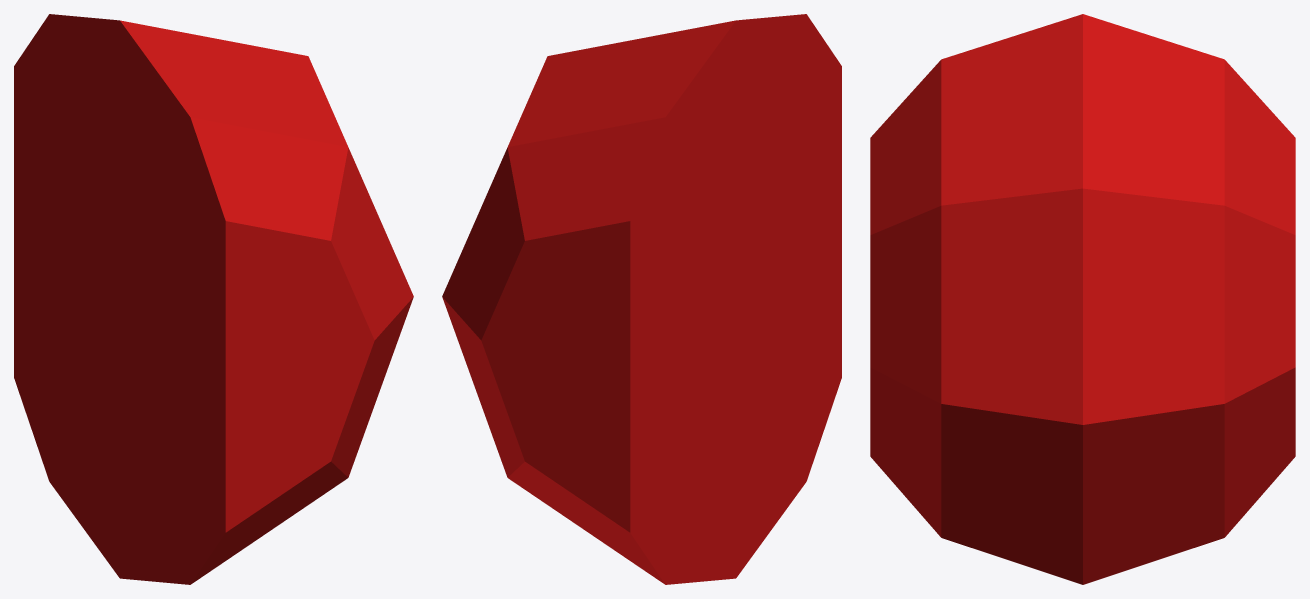
The model's file is halfTomatoOutside.obj.
3 renders of one model, left to right at view 1: azimuth 30°, elevation 25°; view 2: azimuth 150°, elevation 25°; view 3: azimuth 270°, elevation 25°, orthographic.
Visible parts, largest first — view 1: tomato.001; view 2: tomato.001; view 3: tomato.001.
Boxes of the visible parts, bbox=[...] form: tomato.001: bbox=[14, 14, 413, 584]; tomato.001: bbox=[442, 14, 841, 584]; tomato.001: bbox=[870, 14, 1295, 584].
Size of the model in its own units: 0.0848 by 0.1697 by 0.1166.
